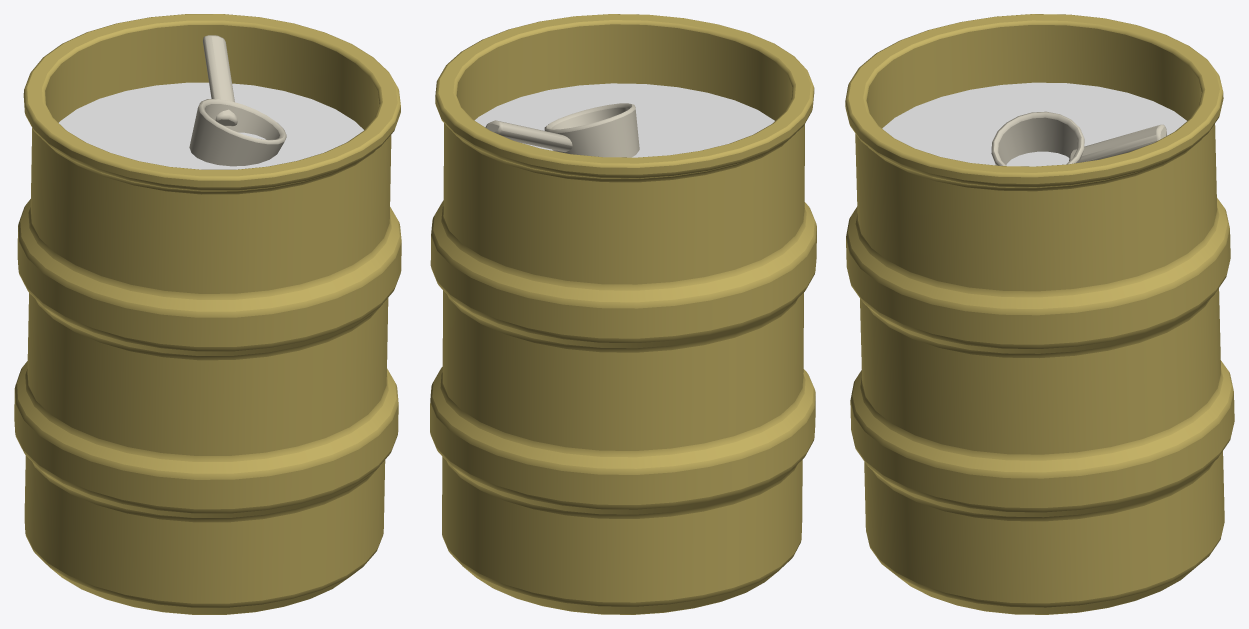
Rendered from pg_water_drum_2.glb.
3 renders of one model, left to right at view 1: azimuth 30°, elevation 25°; view 2: azimuth 150°, elevation 25°; view 3: azimuth 270°, elevation 25°, orthographic.
Visible parts, largest first — view 1: pg_water_drum_2_pg_plastic, pg_water_drum_2_pg_water; view 2: pg_water_drum_2_pg_plastic, pg_water_drum_2_pg_water; view 3: pg_water_drum_2_pg_plastic, pg_water_drum_2_pg_water.
Boxes of the visible parts, bbox=[...] form: pg_water_drum_2_pg_plastic: bbox=[14, 14, 401, 614]; pg_water_drum_2_pg_water: bbox=[59, 82, 363, 169]; pg_water_drum_2_pg_plastic: bbox=[430, 14, 816, 614]; pg_water_drum_2_pg_water: bbox=[474, 83, 774, 157]; pg_water_drum_2_pg_plastic: bbox=[845, 14, 1234, 614]; pg_water_drum_2_pg_water: bbox=[882, 82, 1186, 166].
Size of the model in its own units: 0.6877 by 0.9087 by 0.6938.
